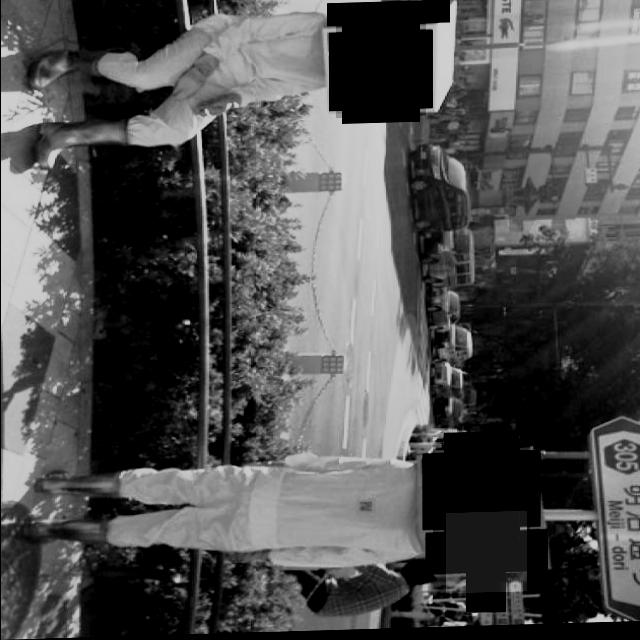qr_code: (432, 444, 529, 543), (335, 26, 425, 120), (445, 514, 526, 597), (326, 3, 449, 28)
